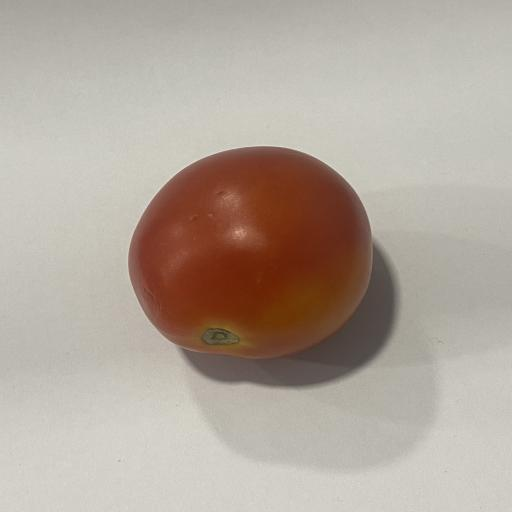ripe: (129, 147, 372, 358)
